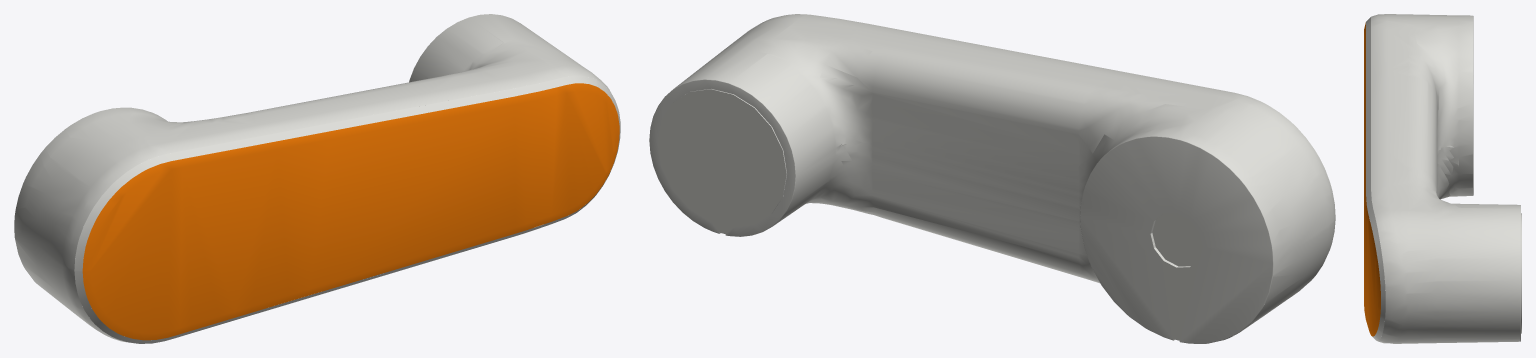
3 renders of one model, left to right at view 1: azimuth 30°, elevation 25°; view 2: azimuth 150°, elevation 25°; view 3: azimuth 270°, elevation 25°, orthographic. The views are drawn at different scales.
Parts seen in each view (by area): view 1: null; view 2: null; view 3: null.
Boxes of the visible parts, <box> form: null: <box>14,14,620,343</box>; null: <box>649,14,1335,343</box>; null: <box>1364,14,1521,343</box>.
Size of the model in its own units: 0.1917 by 0.063 by 0.0541.
